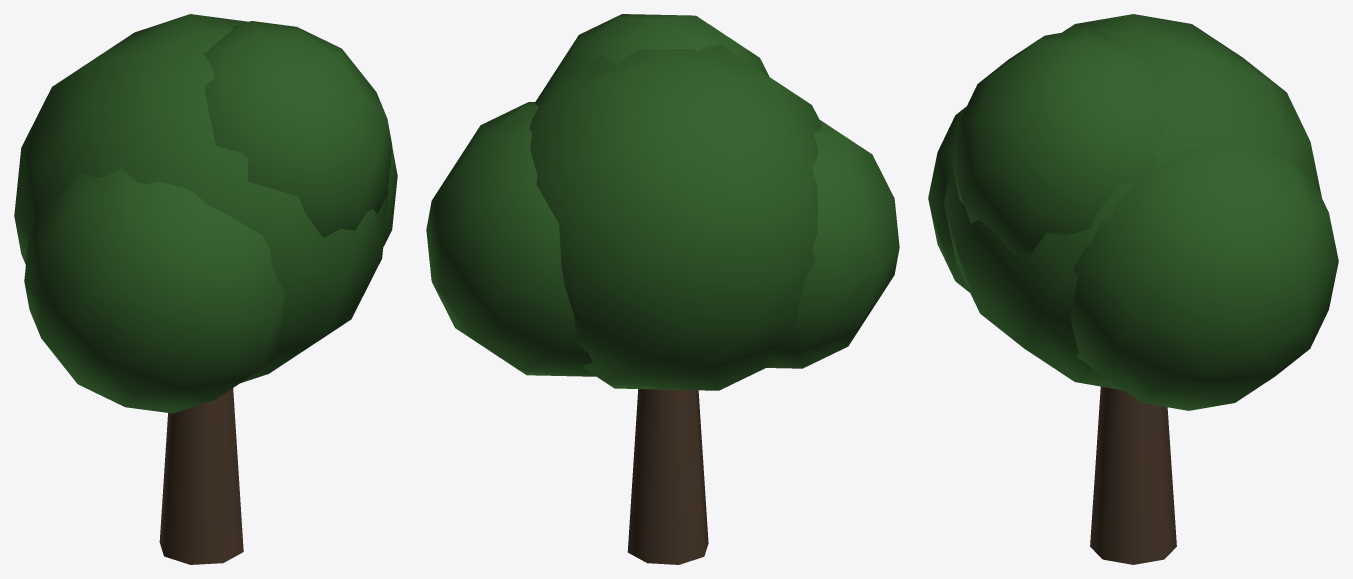
File: broadleaf_tree.glb
The picture shows the model from 3 angles, left to right: view 1: azimuth 30°, elevation 25°; view 2: azimuth 150°, elevation 25°; view 3: azimuth 270°, elevation 25°; orthographic projection. The views are drawn at different scales.
Bounding box in the file's own units: 5.8 × 7.3 × 5.2.
